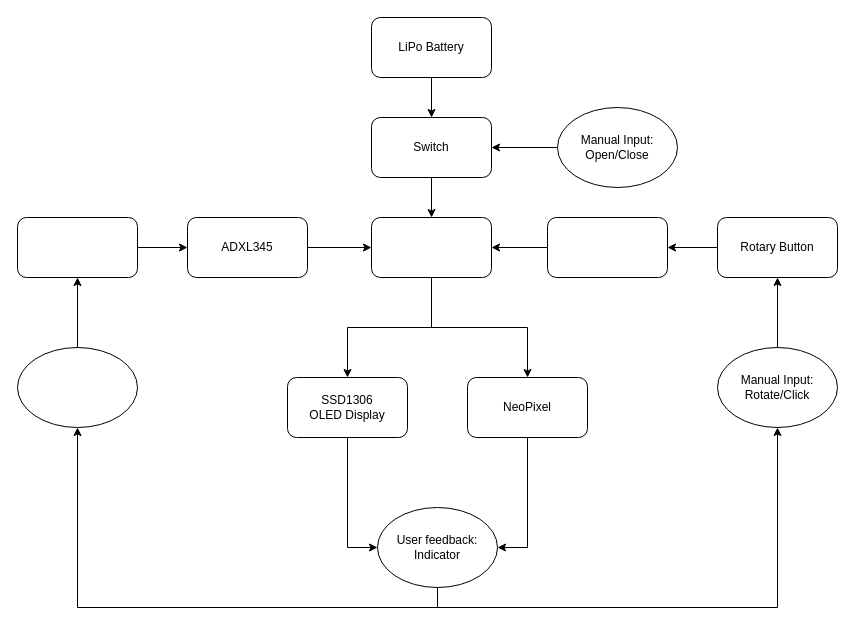
Some shapes in this 855 by 633 pixel diagram are drawn without their labels. Here are the shapes that lost their labels. From the top down, the box of each, then its label:
(16, 216, 138, 278): Box
(370, 216, 492, 278): ESP32 (ADC inside)
(546, 216, 668, 278): Rotary Encoder
(16, 346, 138, 428): Manual Input: Move Left/Right Forward/Backward
